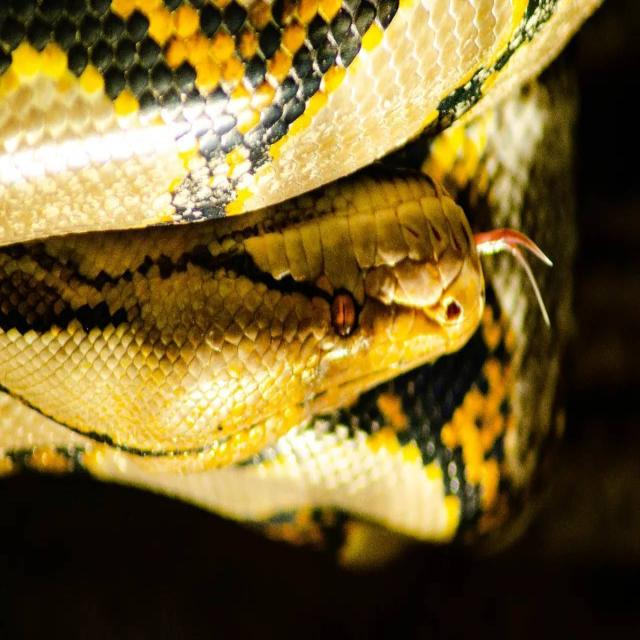Non-Venomous: (70, 120, 460, 428)
